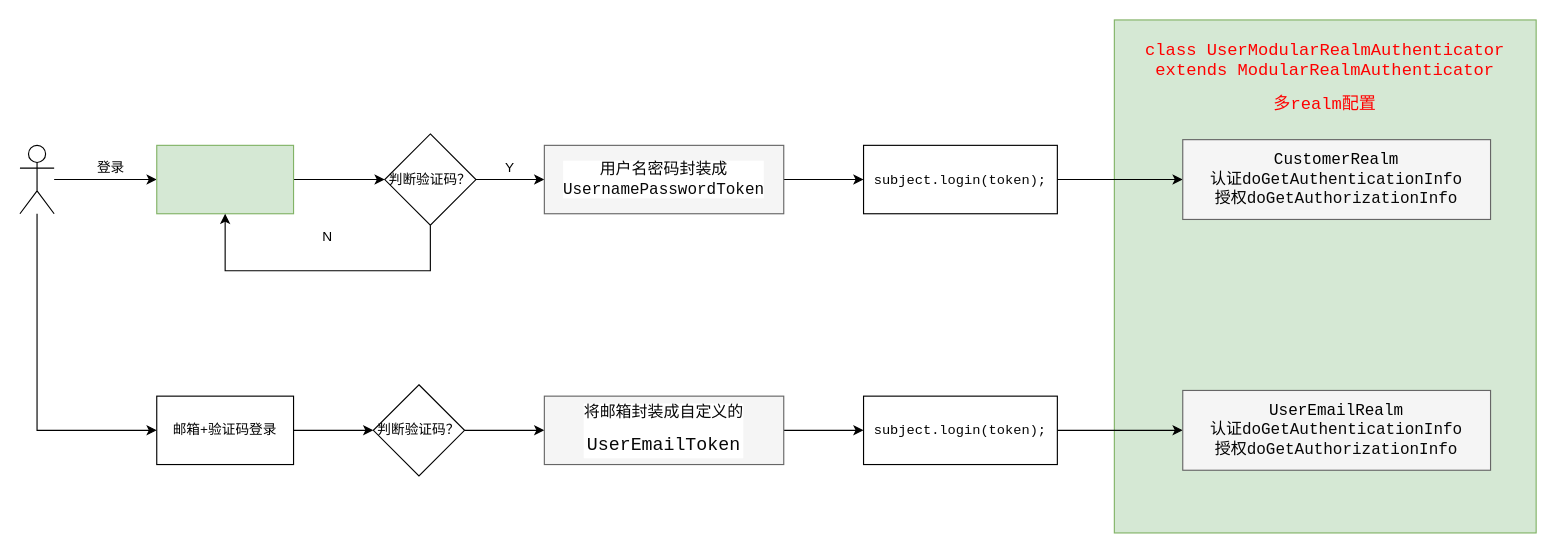
The diagram is 1556 pixels wide and 553 high, and some of its shapes have lost their labels. The centre of each missing label's shape, as x and y in pixels:
Actor: point (36, 179)
用户名+密码+验证码 的方式登录: point (225, 179)
